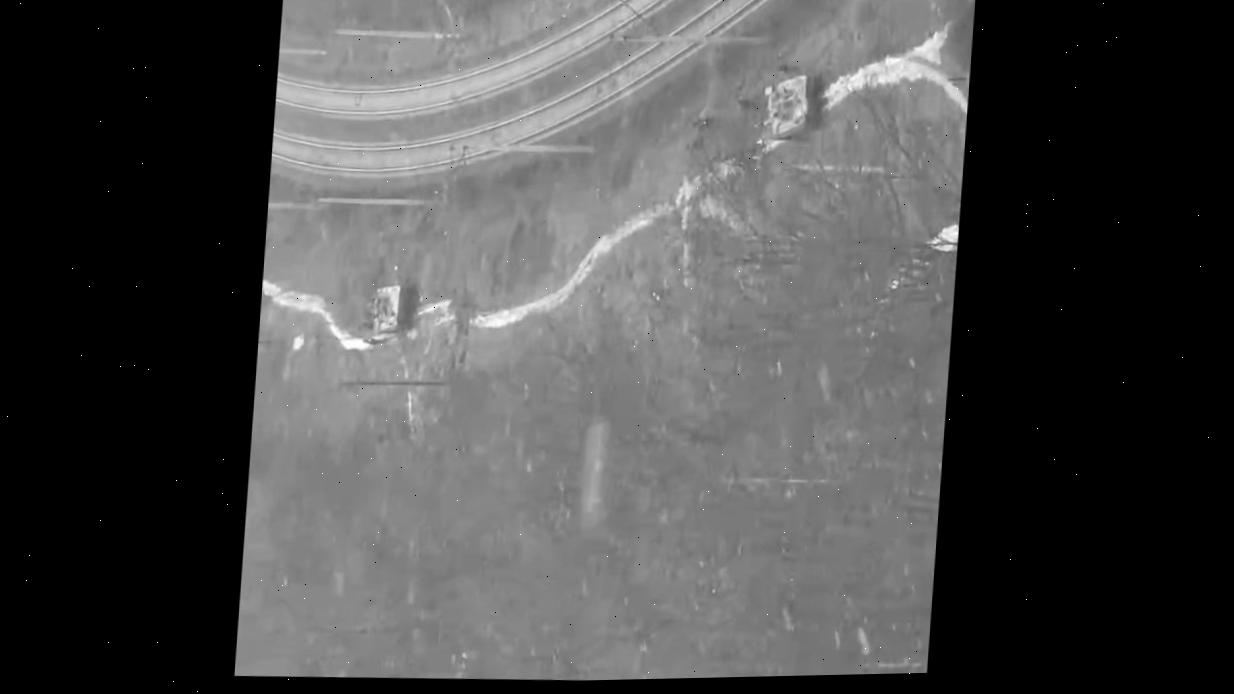person: (688, 115, 722, 133), (730, 94, 758, 115), (769, 62, 805, 75), (360, 336, 392, 348), (359, 320, 374, 330)
tank: (753, 72, 818, 141), (365, 280, 411, 336)
